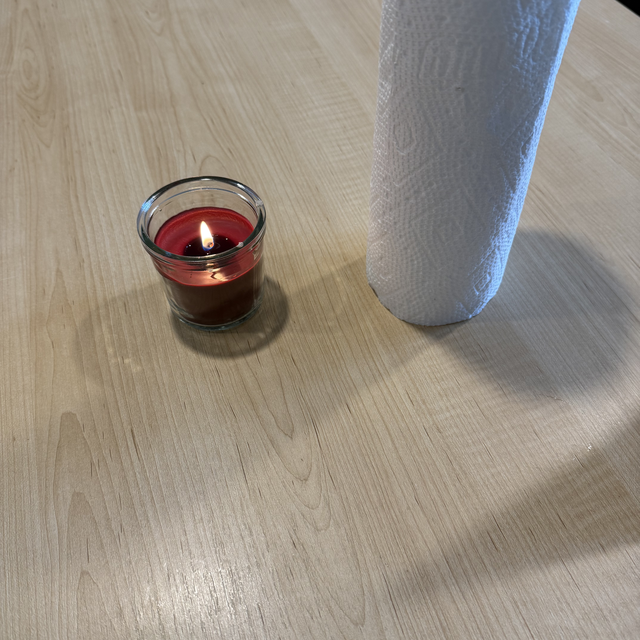Candle: (136, 176, 276, 327)
Paper Towel: (369, 0, 580, 333)
